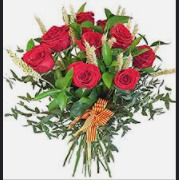RedRose: (63, 58, 101, 92), (19, 43, 56, 77), (112, 65, 142, 91)
